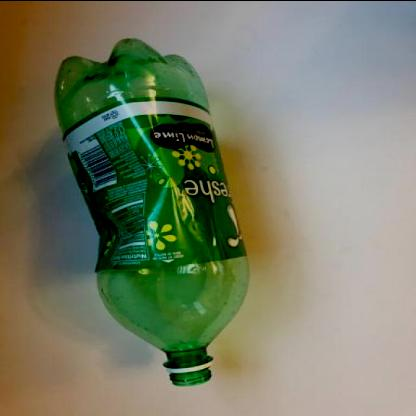Plastic Bottle: (55, 37, 248, 385)
